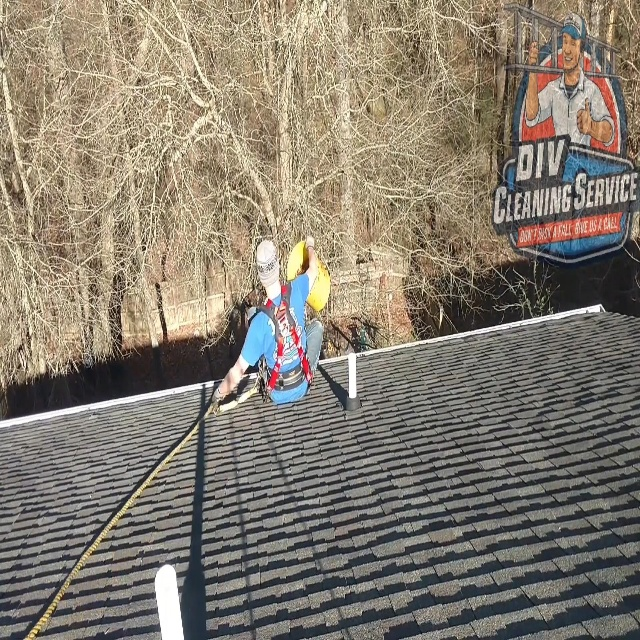Arnes_seguridad: (256, 279, 315, 414)
